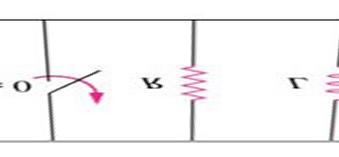resistor: (169, 50, 213, 111)
